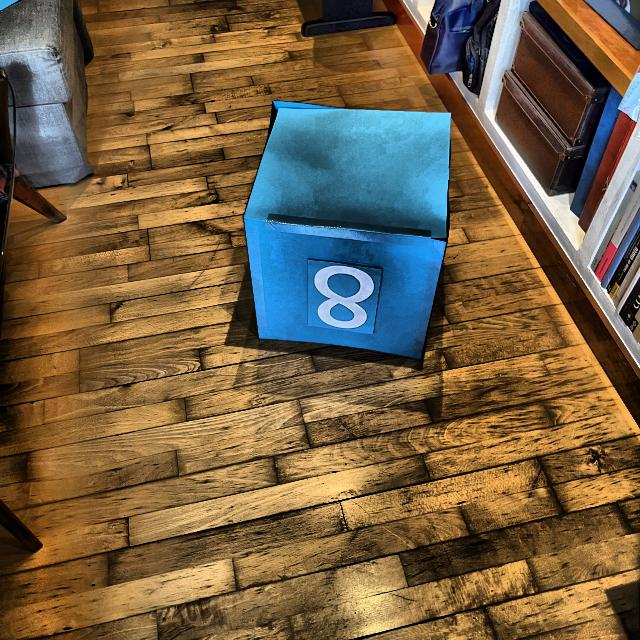blue box: (246, 102, 448, 362)
eight: (311, 259, 377, 331)
